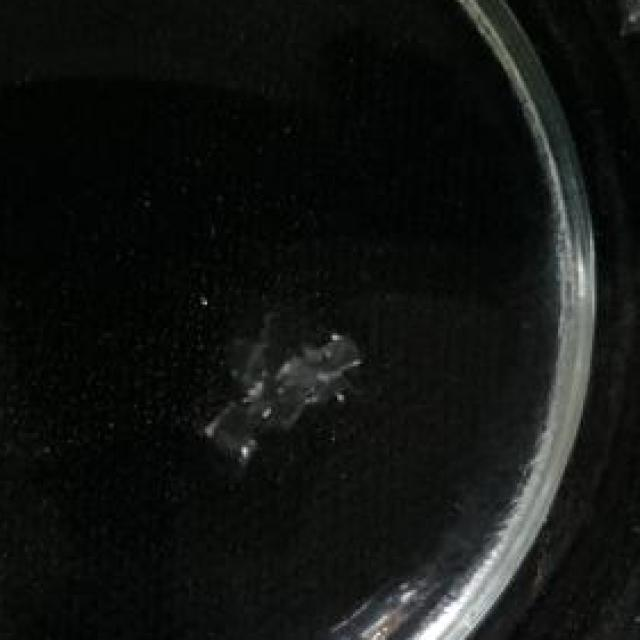Microplastic: (203, 312, 385, 488)
